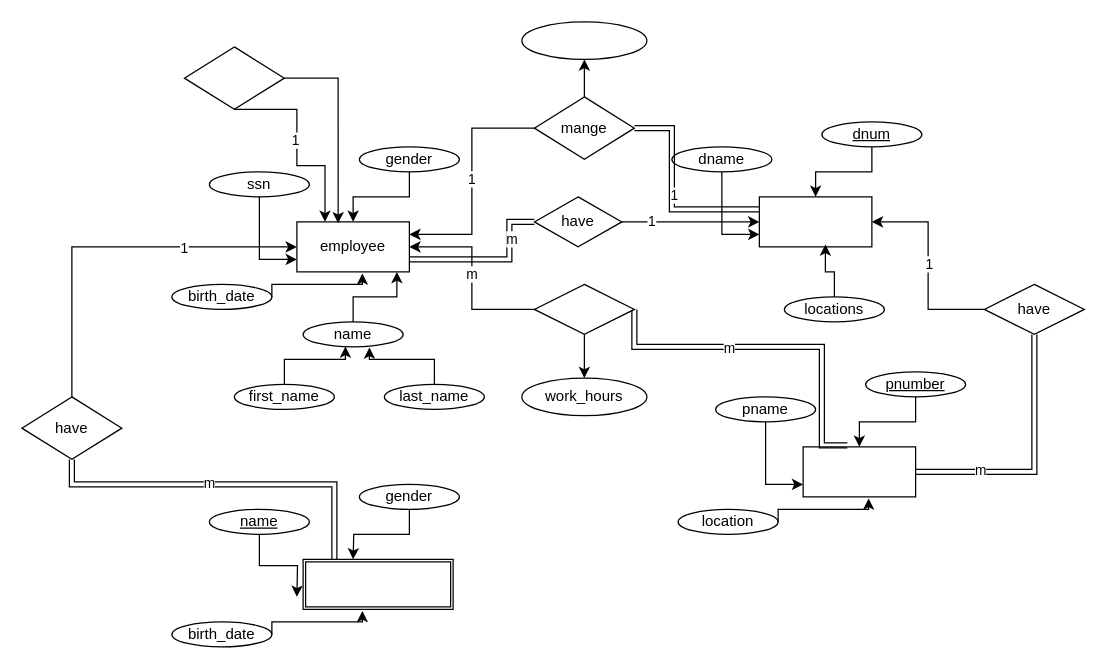
Image size: 1106x669. Some labels were removed from this diagram. Each missing label, with the box of its shape:
department: (758, 196, 872, 247)
dependent: (302, 558, 453, 609)
hiring_date: (521, 21, 647, 59)
project: (802, 446, 916, 497)
supervise: (183, 46, 284, 109)
work: (533, 283, 634, 334)
